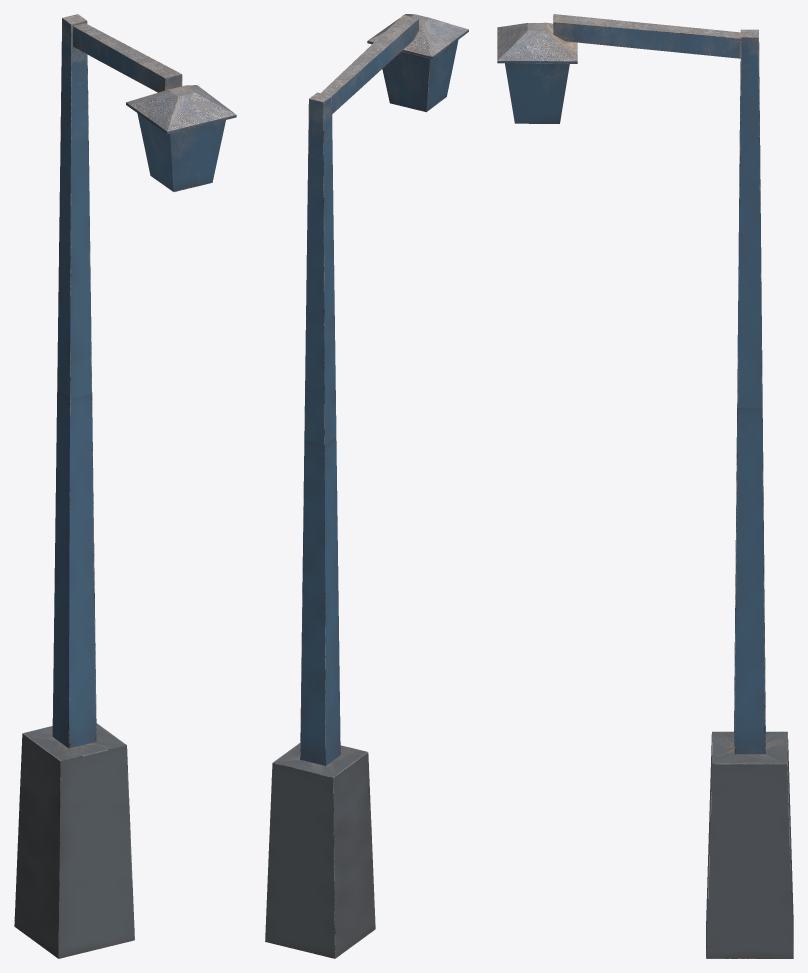
File: post.glb
3 renders of one model, left to right at view 1: azimuth 30°, elevation 25°; view 2: azimuth 150°, elevation 25°; view 3: azimuth 270°, elevation 25°, orthographic. The views are drawn at different scales.
Parts seen in each view (by area): view 1: post; view 2: post; view 3: post.
Boxes of the visible parts, x1,y1,x2,y2 form: post: [14, 14, 236, 958]; post: [265, 14, 468, 958]; post: [497, 14, 793, 958].
Bounding box in the file's own units: 0.2704 × 3.14 × 0.9152.
Materials: 1 (1 with a texture image).
